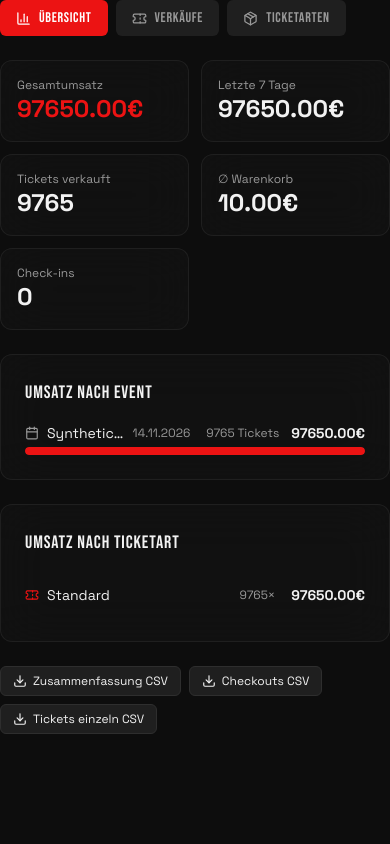
Test case: keeps complete totals and searches the last ticket while rendering only one sales page
Expected: the text "9765" is shown, [17,187,74,218]
Click the button "VERKÄUFE" at {"x": 167, "y": 18}, box [116,0,219,36]
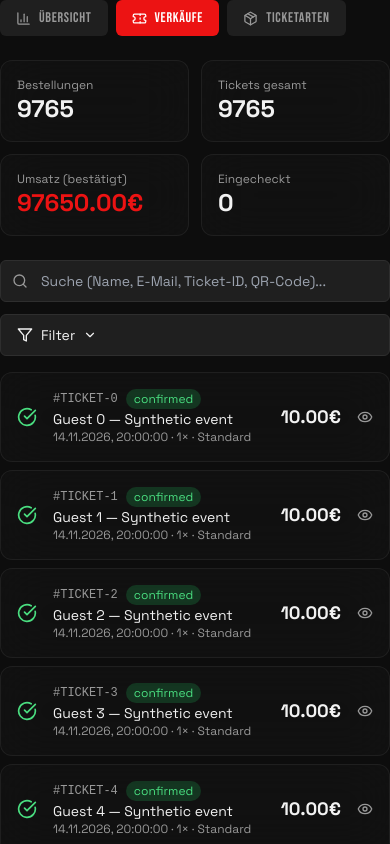
Type "synthetic-9764@" into the field with placeholder "Suche (Name, E-Mail, Ticket-ID, QR-Code)..." at {"x": 195, "y": 281}, box [0,260,389,302]
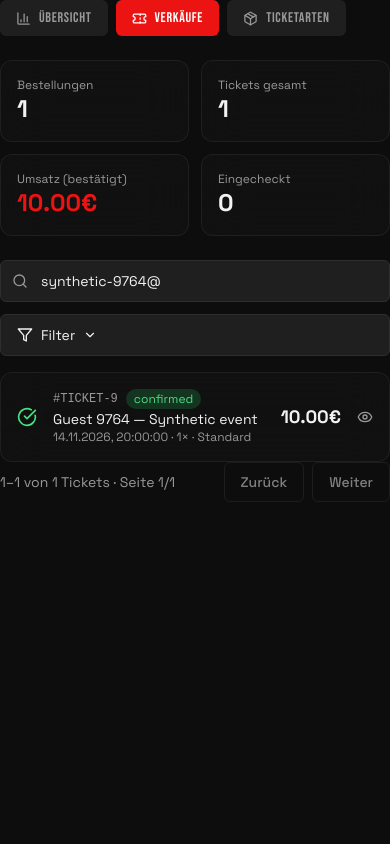
Now the text "Guest 9764 — Synthetic event" is shown, box [53,409,265,429]
